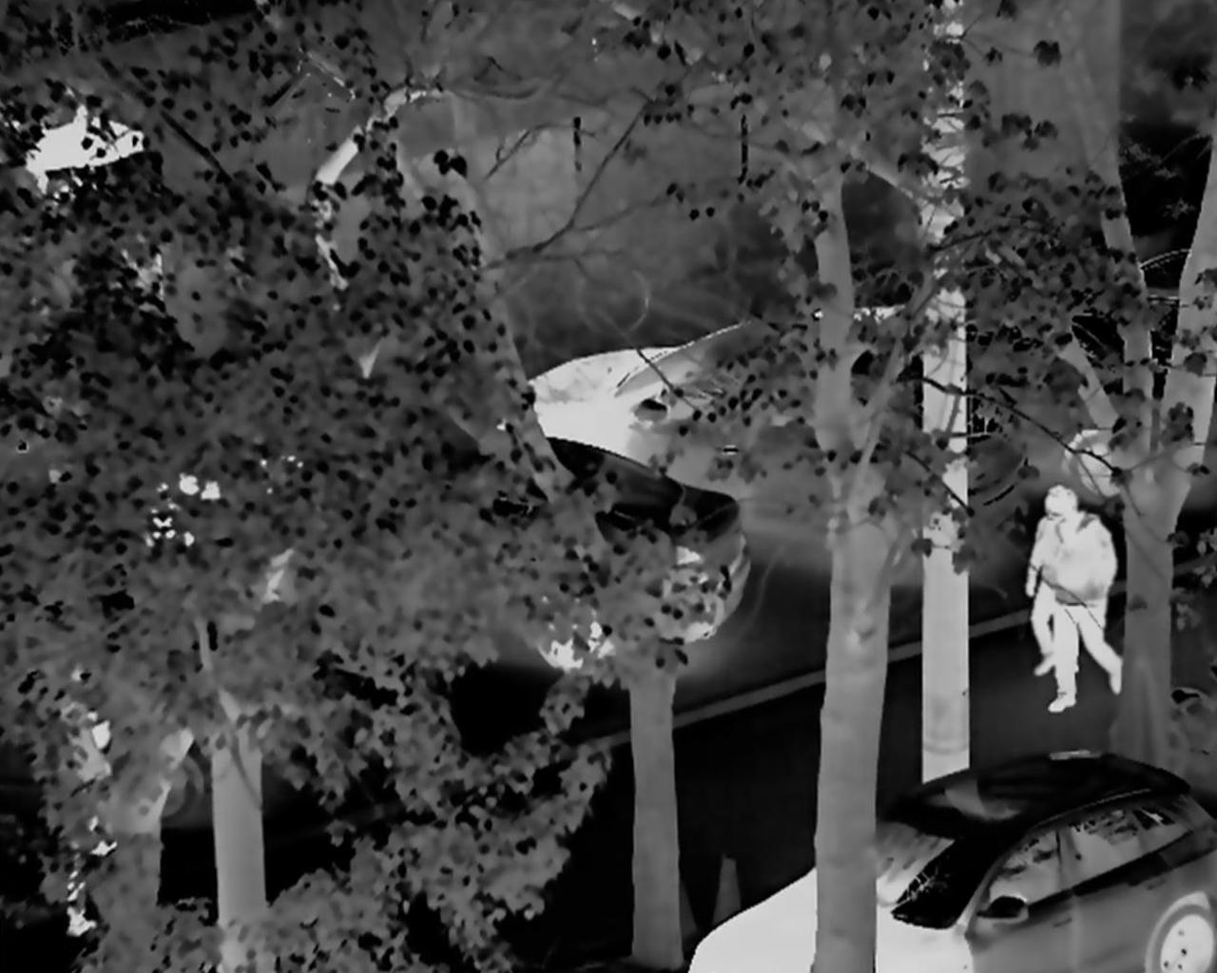person: (1047, 512, 1130, 707), (1025, 485, 1082, 689)
